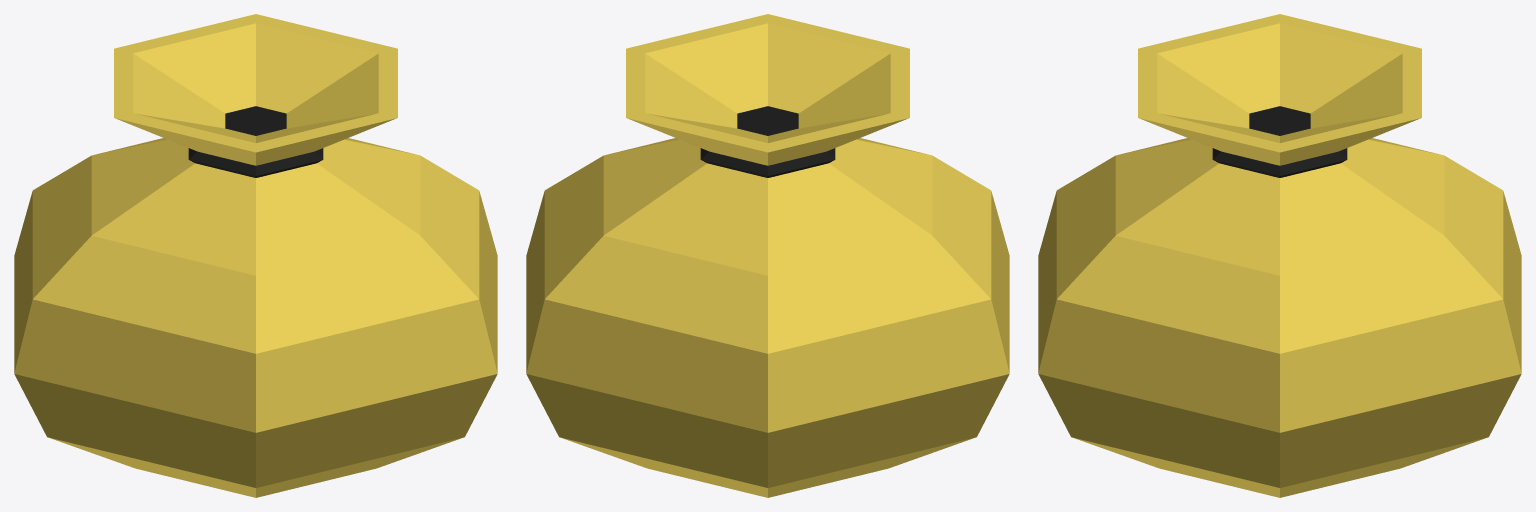
The model's file is PouchUV.fbx.
The picture shows the model from 3 angles, left to right: view 1: azimuth 30°, elevation 25°; view 2: azimuth 150°, elevation 25°; view 3: azimuth 270°, elevation 25°; orthographic projection.
Parts seen in each view (by area): view 1: Sphere; view 2: Sphere; view 3: Sphere.
Boxes of the visible parts, bbox=[...] form: Sphere: bbox=[14, 14, 497, 497]; Sphere: bbox=[526, 14, 1009, 497]; Sphere: bbox=[1038, 14, 1521, 497].
Bounding box in the file's own units: 20.41 × 14.66 × 17.67.
